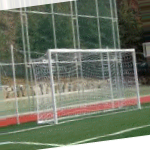goals: (31, 46, 142, 124)
